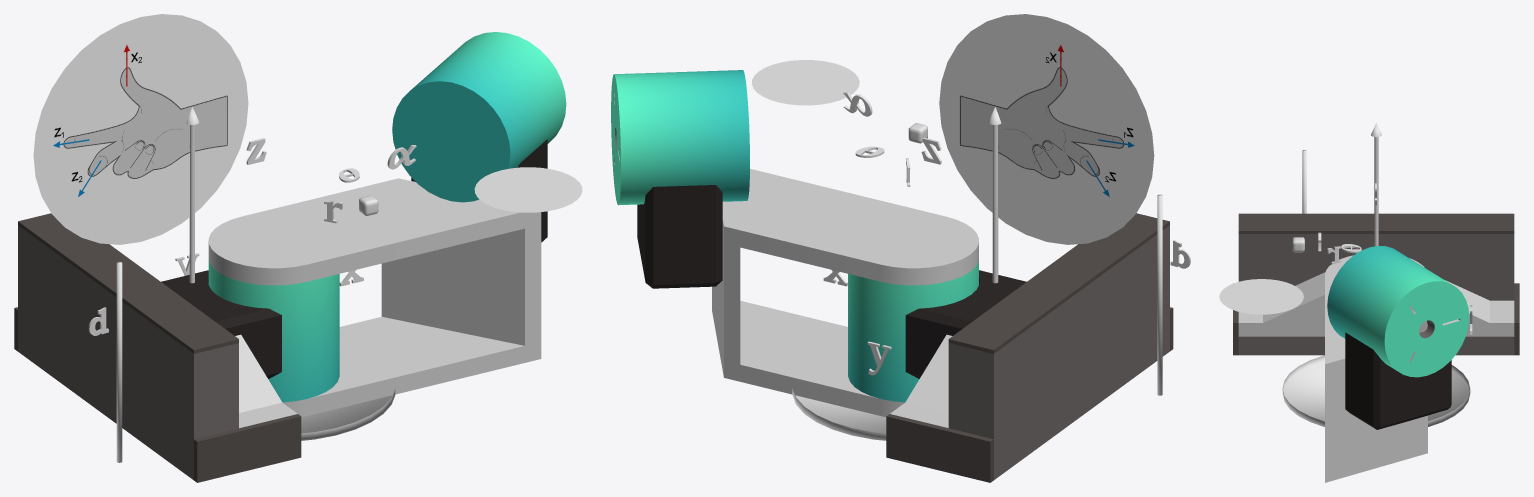
The picture shows the model from 3 angles, left to right: view 1: azimuth 30°, elevation 25°; view 2: azimuth 150°, elevation 25°; view 3: azimuth 270°, elevation 25°; orthographic projection. The views are drawn at different scales.
Parts seen in each view (by area): view 1: MainFrame2, MainFrame1, HandXZY, Cylinder2, Cylinder1, GuideRail1, Range, RangeCylinder, Line, Arrow, GuideRail2; view 2: MainFrame1, HandXZY, MainFrame2, Cylinder2, Cylinder1, GuideRail2, GuideRail1, Range, RangeCylinder, Line, Arrow; view 3: MainFrame1, Cylinder2, MainFrame2, GuideRail2, RangeCylinder, Range, Arrow.
Part boxes in pixels (x1,y1,x2,y2): MainFrame2: (208,178,541,416); MainFrame1: (14,213,301,482); HandXZY: (33,14,248,244); Cylinder2: (392,32,566,202); Cylinder1: (208,258,339,402); GuideRail1: (161,270,281,378); Range: (474,167,582,212); RangeCylinder: (301,388,395,440); Line: (116,261,122,462); Arrow: (186,107,199,283); GuideRail2: (411,139,547,242); MainFrame1: (886,213,1173,482); HandXZY: (939,14,1154,244); MainFrame2: (712,169,978,416); Cylinder2: (611,70,749,205); Cylinder1: (848,259,978,402); GuideRail2: (637,185,722,288); GuideRail1: (905,270,1026,378); Range: (752,60,859,105); RangeCylinder: (792,388,886,440); Line: (1157,194,1162,395); Arrow: (988,107,1001,283); MainFrame1: (1233,213,1519,355); Cylinder2: (1327,246,1469,377); MainFrame2: (1325,255,1427,482); GuideRail2: (1345,332,1451,429); RangeCylinder: (1282,355,1470,426); Range: (1219,279,1303,314); Arrow: (1371,123,1381,246).
Bounding box in the file's own units: 431 × 312 × 266.
